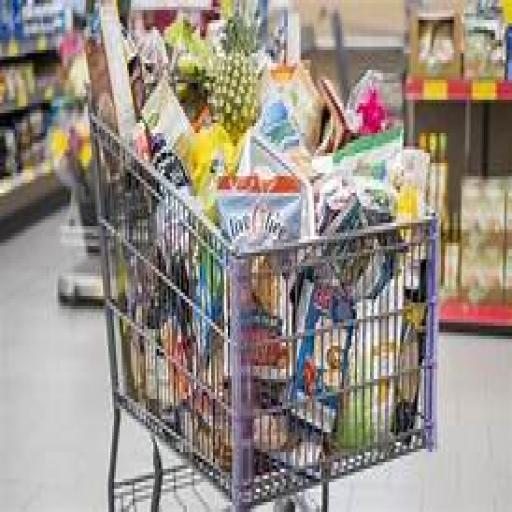shopping_cart: (86, 81, 440, 512)
